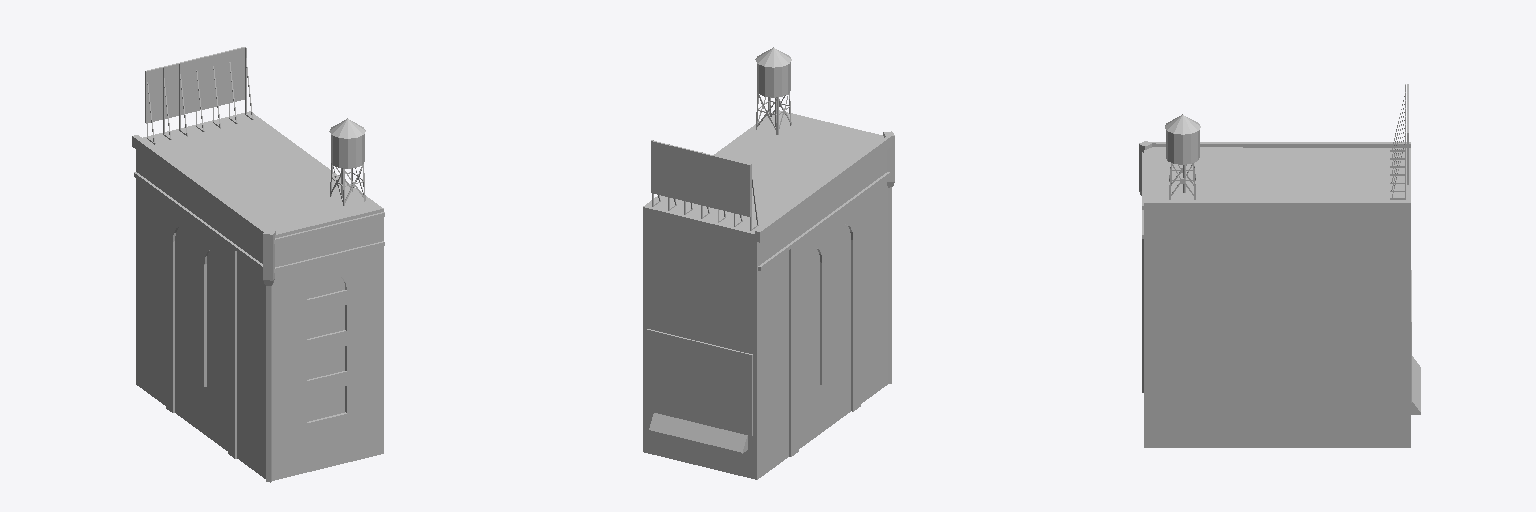
The model's file is TB1nCpQSXXXXXbDXXXXXXXXXXXX.obj.
The picture shows the model from 3 angles: view 1: azimuth 30°, elevation 25°; view 2: azimuth 150°, elevation 25°; view 3: azimuth 270°, elevation 25°; orthographic projection.
Parts seen in each view (by area): view 1: BuildingF:BuildingF; view 2: BuildingF:BuildingF; view 3: BuildingF:BuildingF.
Part boxes in pixels (bbox=[...]): BuildingF:BuildingF: bbox=[132, 47, 384, 482]; BuildingF:BuildingF: bbox=[643, 47, 894, 479]; BuildingF:BuildingF: bbox=[1139, 84, 1420, 447].
Size of the model in its own units: 3242 by 8417 by 6624.